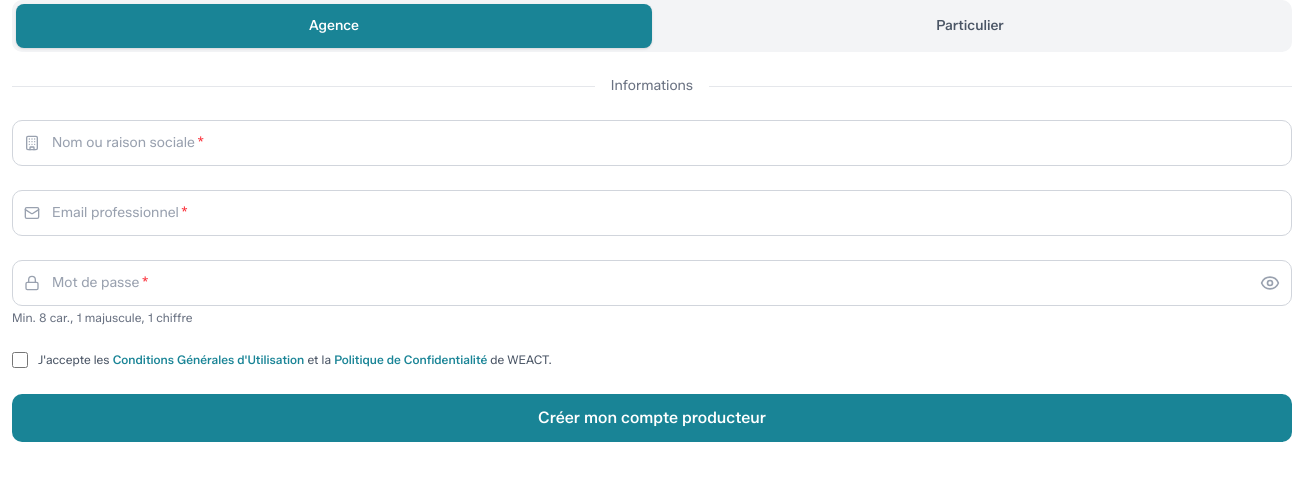
Test: ProducerRegistrationForm › maps the per-type server error key onto the shared name input
Type "Studio Pro" into the field with test id "nom-input" at (652, 143), box [12, 120, 1292, 166]
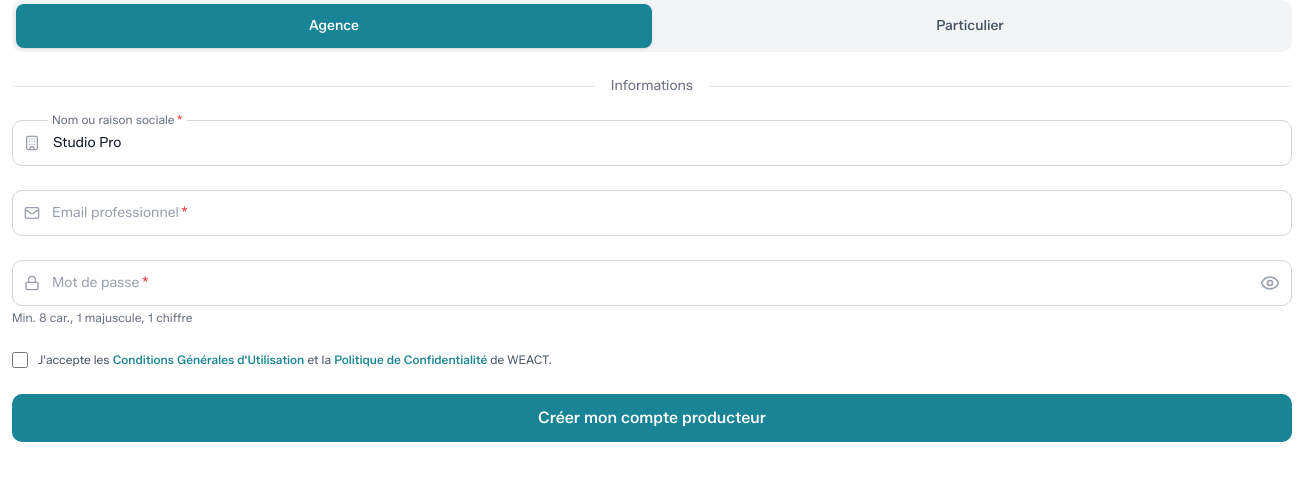
Type "agency@example.com" into the field with test id "email-input" at (652, 213), box [12, 190, 1292, 236]
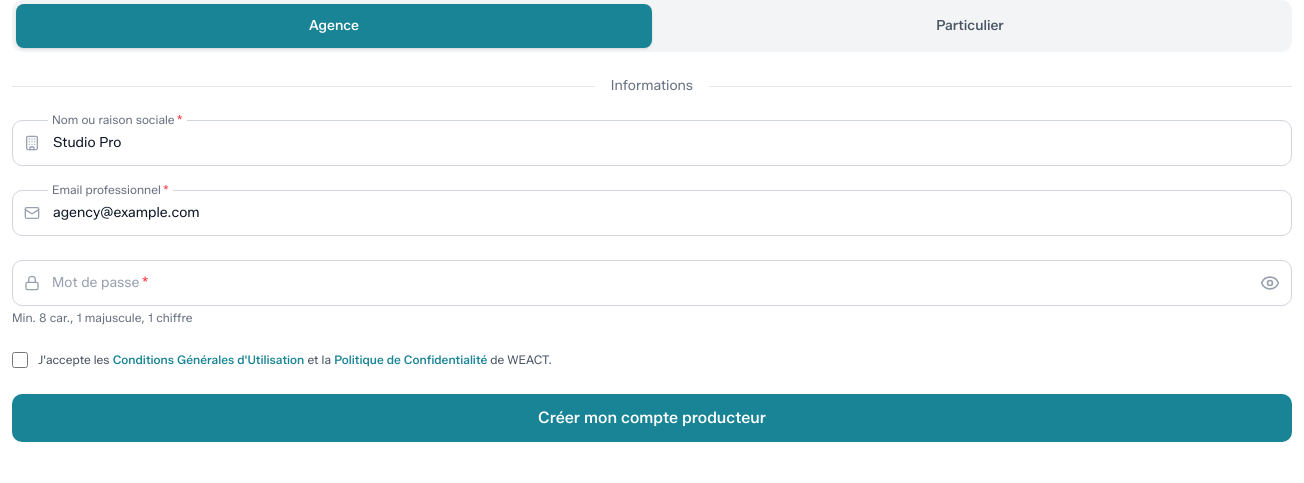
Type "Password123" into the password field with test id "password-input" at (652, 283), box [12, 260, 1292, 306]
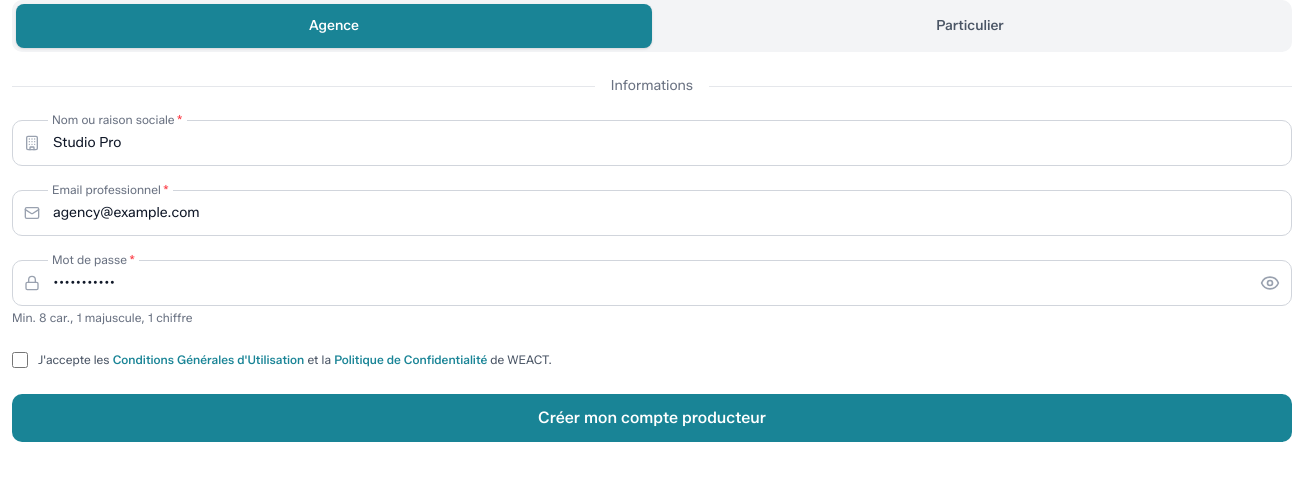
Click the checkbox with test id "accept-cgu-checkbox" at (20, 360), box [12, 352, 28, 368]
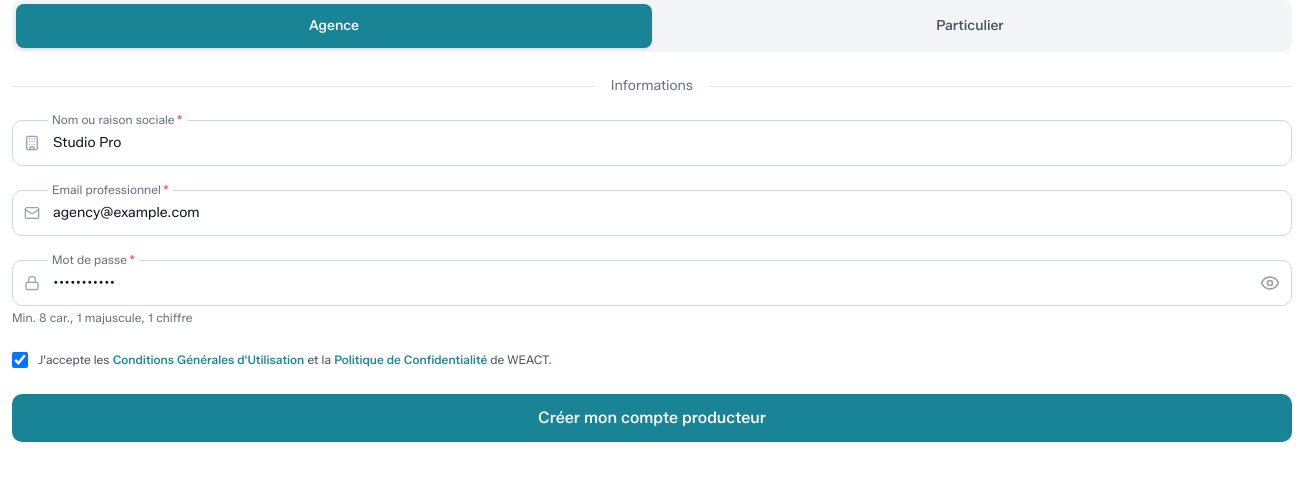
Submit the form with test id "producer-registration-form"
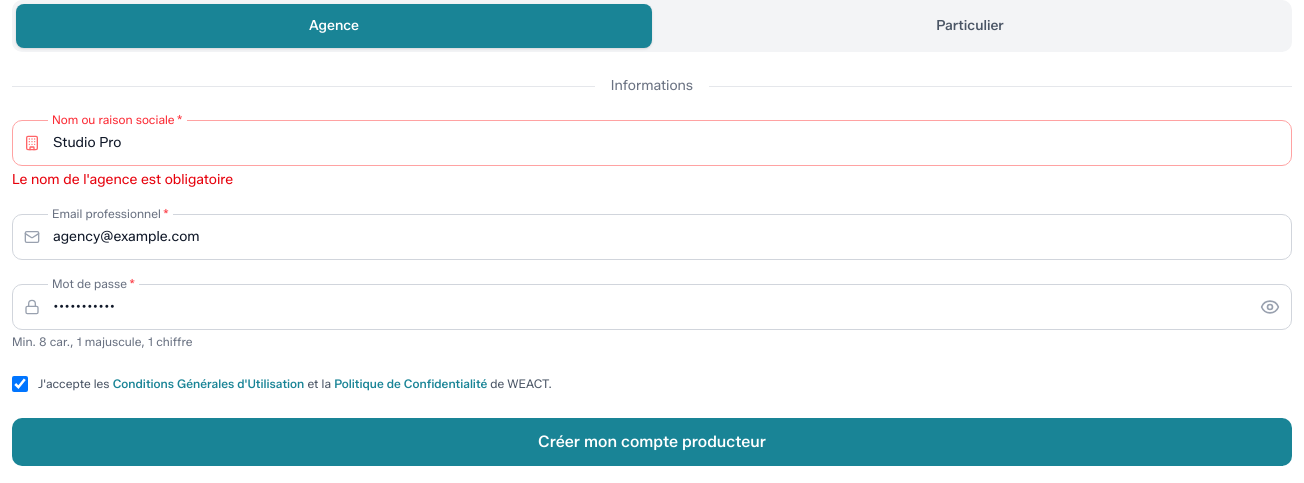
Expected: the text with test id "nom-error" reads "Le nom de l'agence est obligatoire", [12, 171, 233, 188]
